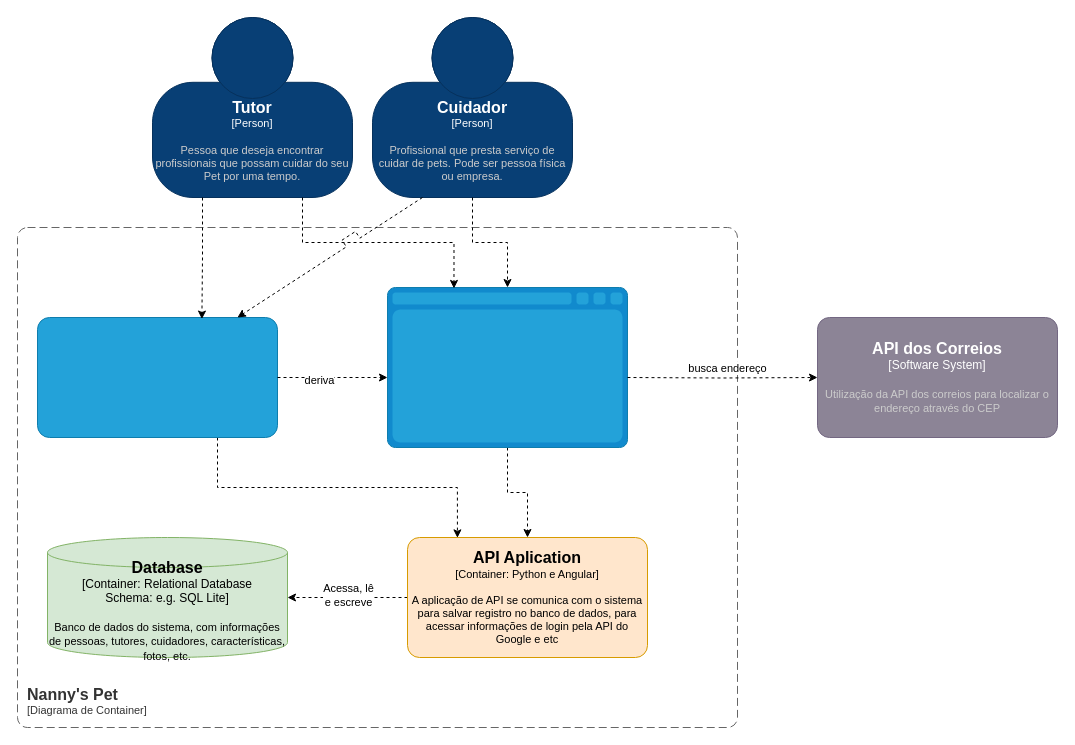
This 1075x745 diagram has some shape labels left out. The centre of each missing label's shape, as x and y in pixels:
"Single-Aplication [Container: Angular] Página do Nanny's Pet" belongs at pixel 507 367.
"Web Aplication [Container: HTML, CSS e JS] Aplicação web Nanny's Pet" belongs at pixel 157 377.
